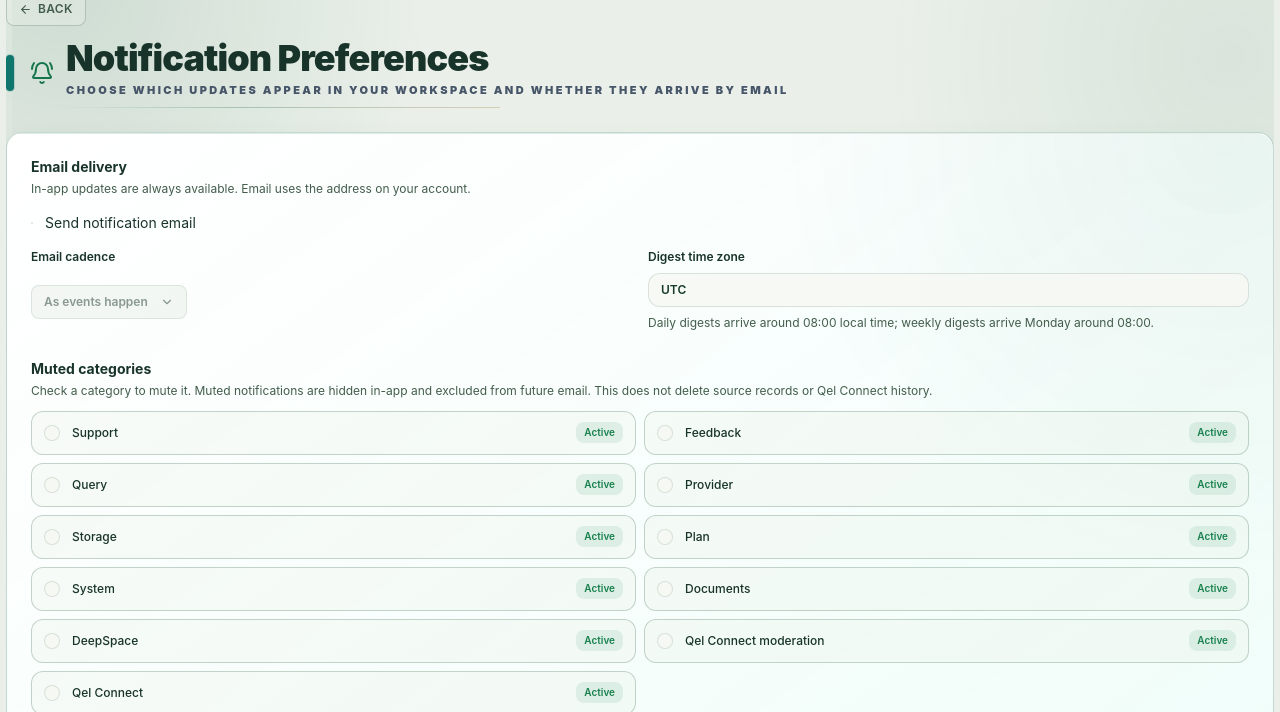
Scenario: notification preferences page › renders categories from the API and saves timezone and mute choices
This screenshot has width=1280, height=712.
Expected: the text "DeepSpace" is shown, [72, 632, 138, 648]
Expected: the text "Qel Connect" is shown, [72, 684, 143, 700]
Click the checkbox named "Mute Qel Connect notifications" at (52, 692), box [44, 684, 60, 700]
(page scrolled)
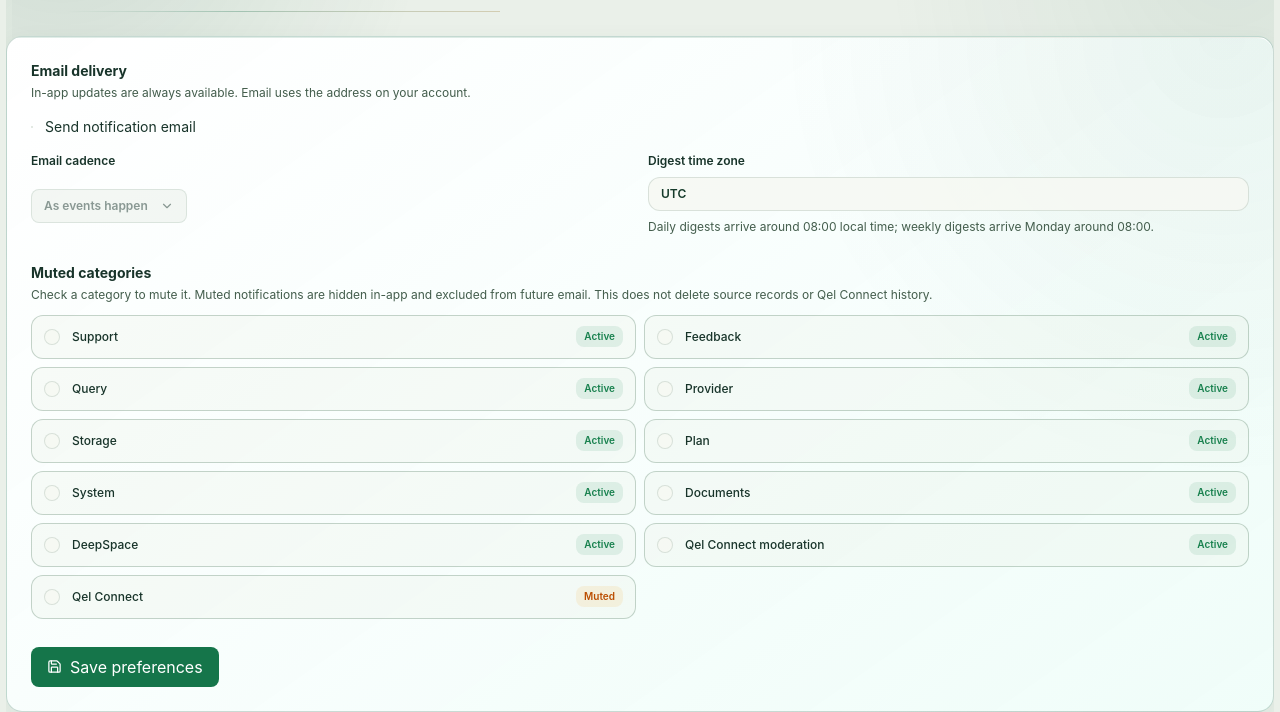
Now the checkbox named "Mute Qel Connect notifications" is checked, box [44, 588, 60, 604]
Now the text "Muted" is shown, box [576, 586, 623, 607]
Click the button "Save preferences" at (125, 666), box [31, 646, 219, 686]
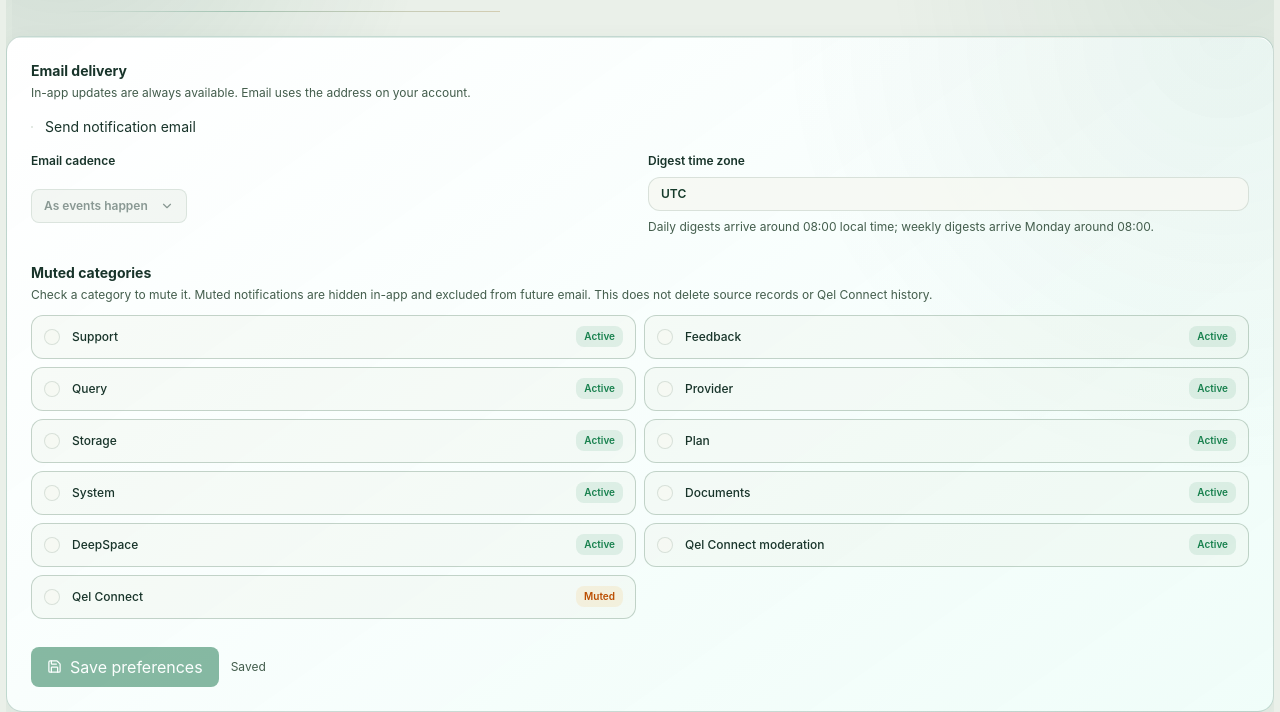
Now the text "Saved" is shown, box [231, 658, 266, 674]
